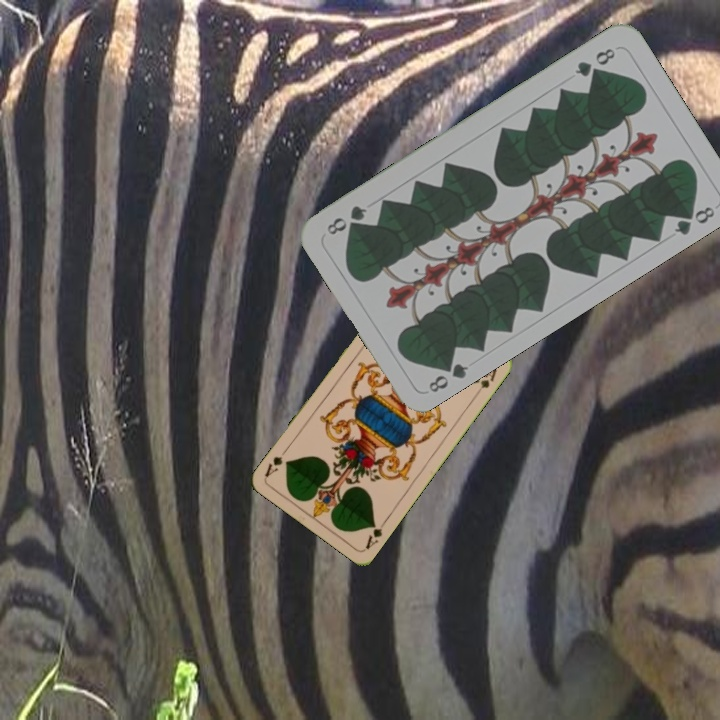G8: (424, 354, 471, 396), (570, 43, 618, 80)
GA: (361, 516, 389, 552)
